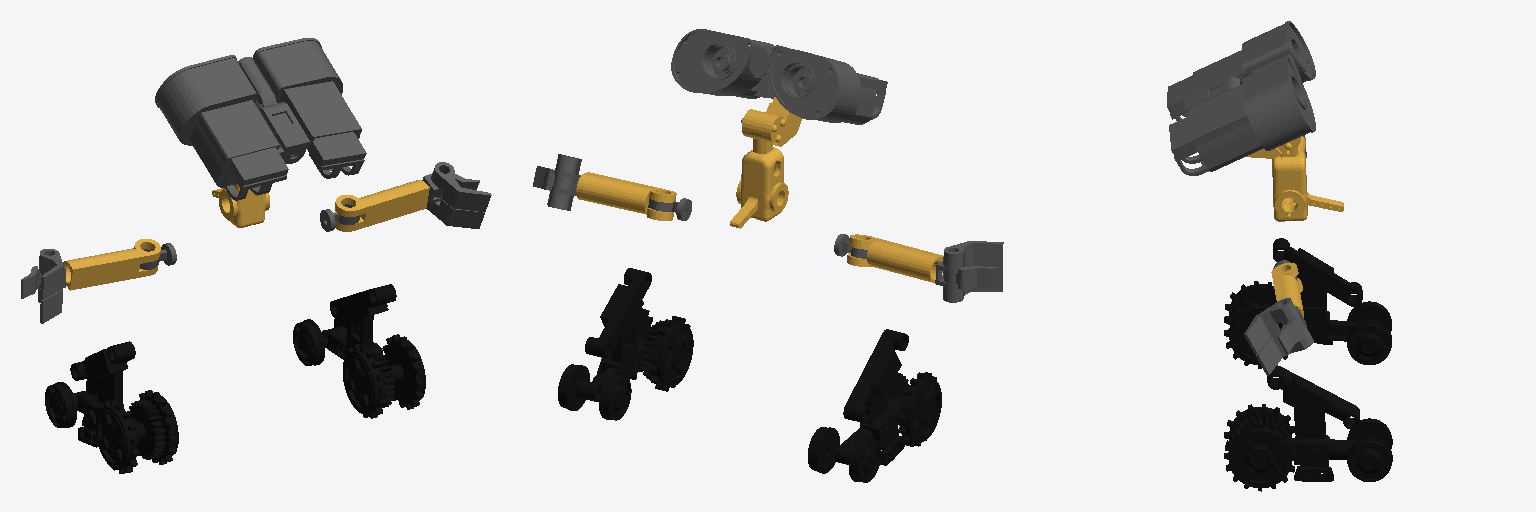
The robot description file, URDF, robot "wall-e_full":
<?xml version="1.0" encoding="utf-8"?>
<!-- This URDF was automatically created by SolidWorks to URDF Exporter! Originally created by Stephen Brawner (brawner@gmail.com) 
     Commit Version: 1.6.0-4-g7f85cfe  Build Version: 1.6.7995.38578
     For more information, please see http://wiki.ros.org/sw_urdf_exporter -->
<robot
  name="wall-e_full">
  <link
    name="base_link">
    <inertial>
      <origin
        xyz="0.00072425 0.015854 -0.025799"
        rpy="0 0 0" />
      <mass
        value="11" />
      <inertia
        ixx="0.0025114"
        ixy="-2.7531E-05"
        ixz="-3.5025E-06"
        iyy="0.0022134"
        iyz="1.9812E-05"
        izz="0.0026656" />
    </inertial>
    <visual>
      <origin
        xyz="0 0 0"
        rpy="0 0 0" />
      <geometry>
        <mesh
          filename="package://wall-e_full/meshes/visual/base_link.STL" />
      </geometry>
      <material
        name="">
        <color
          rgba="0.9 0.7 0.3 1" />
      </material>
    </visual>
    <collision>
      <origin
        xyz="0 0 0"
        rpy="0 0 0" />
      <geometry>
        <mesh
          filename="package://wall-e_full/meshes/visual/base_link.STL" />
      </geometry>
    </collision>
  </link>
  <link
    name="Rhand">
    <inertial>
      <origin
        xyz="0.0151270901152484 -0.000420105609750587 6.9451655321906E-05"
        rpy="0 0 0" />
      <mass
        value="0.00374792012611797" />
      <inertia
        ixx="1.62998097553662E-07"
        ixy="1.71980299655676E-08"
        ixz="-8.16181822947375E-09"
        iyy="6.33070001501512E-07"
        iyz="2.54528565847437E-08"
        izz="6.15720368192165E-07" />
    </inertial>
    <visual>
      <origin
        xyz="0 0 0"
        rpy="0 0 0" />
      <geometry>
        <mesh
          filename="package://wall-e_full/meshes/visual/Rhand.STL" />
      </geometry>
      <material
        name="">
        <color
          rgba="0.4 0.4 0.4 1" />
      </material>
    </visual>
    <collision>
      <origin
        xyz="0 0 0"
        rpy="0 0 0" />
      <geometry>
        <mesh
          filename="package://wall-e_full/meshes/visual/Rhand.STL" />
      </geometry>
    </collision>
  </link>
  <joint
    name="RhandJ"
    type="revolute">
    <origin
      xyz="0.0792794132002008 -0.0110583585170958 0.0300940663722977"
      rpy="1.07568442013707 0 0" />
    <parent
      link="base_link" />
    <child
      link="Rhand" />
    <axis
      xyz="-1 0 0" />
    <limit
      lower="2"
      upper="4"
      effort="2"
      velocity="0.1" />
  </joint>
  <link
    name="Rsholder">
    <inertial>
      <origin
        xyz="-0.0119213406294485 -0.00339818177914497 -0.0332815830043091"
        rpy="0 0 0" />
      <mass
        value="0.0182925989445923" />
      <inertia
        ixx="1.36162677294772E-05"
        ixy="-5.88975805427171E-09"
        ixz="-4.64502040268299E-08"
        iyy="1.37666666939862E-05"
        iyz="-1.69732886248601E-06"
        izz="2.4037183867589E-06" />
    </inertial>
    <visual>
      <origin
        xyz="0 0 0"
        rpy="0 0 0" />
      <geometry>
        <mesh
          filename="package://wall-e_full/meshes/visual/Rsholder.STL" />
      </geometry>
      <material
        name="">
        <color
          rgba="0.9 0.7 0.3 1" />
      </material>
    </visual>
    <collision>
      <origin
        xyz="0 0 0"
        rpy="0 0 0" />
      <geometry>
        <mesh
          filename="package://wall-e_full/meshes/visual/Rsholder.STL" />
      </geometry>
    </collision>
  </link>
  <joint
    name="RsholderJ"
    type="revolute">
    <origin
      xyz="0.0242485001750451 0.00794794958465717 0.00951216591590409"
      rpy="-1.46283096157975 -0.617035597603469 1.5707963267949" />
    <parent
      link="Rhand" />
    <child
      link="Rsholder" />
    <axis
      xyz="-1 0 0" />
    <limit
      lower="0"
      upper="1.6"
      effort="2"
      velocity="0.1" />
  </joint>
  <link
    name="Rarm">
    <inertial>
      <origin
        xyz="-0.0235025387191945 0.011672979455511 -0.00645685040903693"
        rpy="0 0 0" />
      <mass
        value="0.0233697686668032" />
      <inertia
        ixx="5.0787196881731E-06"
        ixy="-1.21873227251801E-09"
        ixz="-1.59436262819754E-09"
        iyy="2.96127465425561E-06"
        iyz="1.62653045119097E-06"
        izz="3.79013374123363E-06" />
    </inertial>
    <visual>
      <origin
        xyz="0 0 0"
        rpy="0 0 0" />
      <geometry>
        <mesh
          filename="package://wall-e_full/meshes/visual/Rarm.STL" />
      </geometry>
      <material
        name="">
        <color
          rgba="0.4 0.4 0.4 1" />
      </material>
    </visual>
    <collision>
      <origin
        xyz="0 0 0"
        rpy="0 0 0" />
      <geometry>
        <mesh
          filename="package://wall-e_full/meshes/visual/Rarm.STL" />
      </geometry>
    </collision>
  </link>
  <joint
    name="RarmJ"
    type="revolute">
    <origin
      xyz="0.011200906069873 -0.0210204493304824 -0.0957705918918181"
      rpy="-0.0342560450293712 -0.0365574134451476 -0.197785306608807" />
    <parent
      link="Rsholder" />
    <child
      link="Rarm" />
    <axis
      xyz="-1 0 0" />
    <limit
      lower="0"
      upper="3.14"
      effort="2"
      velocity="0.1" />
  </joint>
  <link
    name="Lhand">
    <inertial>
      <origin
        xyz="0.0101270901152479 0.000274721555842294 -0.000325331096771464"
        rpy="0 0 0" />
      <mass
        value="0.00374792012611804" />
      <inertia
        ixx="1.62998097553666E-07"
        ixy="-7.79687362180127E-09"
        ixz="1.73665273797952E-08"
        iyy="6.50902239771298E-07"
        iyz="-4.52508470059075E-09"
        izz="5.97888129922383E-07" />
    </inertial>
    <visual>
      <origin
        xyz="0 0 0"
        rpy="0 0 0" />
      <geometry>
        <mesh
          filename="package://wall-e_full/meshes/visual/Lhand.STL" />
      </geometry>
      <material
        name="">
        <color
          rgba="0.4 0.4 0.4 1" />
      </material>
    </visual>
    <collision>
      <origin
        xyz="0 0 0"
        rpy="0 0 0" />
      <geometry>
        <mesh
          filename="package://wall-e_full/meshes/visual/Lhand.STL" />
      </geometry>
    </collision>
  </link>
  <joint
    name="LhandJ"
    type="revolute">
    <origin
      xyz="-0.0842205944292024 -0.00919497285261173 0.0341115128459939"
      rpy="2.06590823345272 0 -3.14159265358979" />
    <parent
      link="base_link" />
    <child
      link="Lhand" />
    <axis
      xyz="-1 0 0" />
    <limit
      lower="2.8"
      upper="4.8"
      effort="2"
      velocity="0.1" />
  </joint>
  <link
    name="Lsholder">
    <inertial>
      <origin
        xyz="-0.0120786593787262 0.0195047397040249 0.0271804439880072"
        rpy="0 0 0" />
      <mass
        value="0.0182925989740192" />
      <inertia
        ixx="1.36162677327382E-05"
        ixy="-2.63630904946591E-08"
        ixz="-3.86949378034712E-08"
        iyy="1.04635530723469E-05"
        iyz="-5.43171013534269E-06"
        izz="5.70683201171263E-06" />
    </inertial>
    <visual>
      <origin
        xyz="0 0 0"
        rpy="0 0 0" />
      <geometry>
        <mesh
          filename="package://wall-e_full/meshes/visual/Lsholder.STL" />
      </geometry>
      <material
        name="">
        <color
          rgba="0.9 0.7 0.3 1" />
      </material>
    </visual>
    <collision>
      <origin
        xyz="0 0 0"
        rpy="0 0 0" />
      <geometry>
        <mesh
          filename="package://wall-e_full/meshes/visual/Lsholder.STL" />
      </geometry>
    </collision>
  </link>
  <joint
    name="LsholderJ"
    type="revolute">
    <origin
      xyz="0.0192485001750451 0.0116867934107034 -0.00421067864858182"
      rpy="2.18702424890012 0.0886676099420433 1.5707963267949" />
    <parent
      link="Lhand" />
    <child
      link="Lsholder" />
    <axis
      xyz="1 0 0" />
    <limit
      lower="0"
      upper="1.6"
      effort="2"
      velocity="0.1" />
  </joint>
  <link
    name="Larm">
    <inertial>
      <origin
        xyz="-0.0164974612808055 -0.00893436977348827 -0.00990587721123648"
        rpy="0 0 0" />
      <mass
        value="0.0233697686668031" />
      <inertia
        ixx="5.07871968817308E-06"
        ixy="-1.67146424151962E-09"
        ixz="1.11063397732798E-09"
        iyy="4.05067786846129E-06"
        iyz="-1.53680307749797E-06"
        izz="2.7007305270279E-06" />
    </inertial>
    <visual>
      <origin
        xyz="0 0 0"
        rpy="0 0 0" />
      <geometry>
        <mesh
          filename="package://wall-e_full/meshes/visual/Larm.STL" />
      </geometry>
      <material
        name="">
        <color
          rgba="0.4 0.4 0.4 1" />
      </material>
    </visual>
    <collision>
      <origin
        xyz="0 0 0"
        rpy="0 0 0" />
      <geometry>
        <mesh
          filename="package://wall-e_full/meshes/visual/Larm.STL" />
      </geometry>
    </collision>
  </link>
  <joint
    name="LarmJ"
    type="revolute">
    <origin
      xyz="0.00399305568475605 0.0545580157763127 0.0815532442295912"
      rpy="2.13255459988495 0.102904174992439 0.173074399599481" />
    <parent
      link="Lsholder" />
    <child
      link="Larm" />
    <axis
      xyz="1 0 0" />
    <limit
      lower="0"
      upper="3.14"
      effort="2"
      velocity="0.1" />
  </joint>
  <link
    name="Neck">
    <inertial>
      <origin
        xyz="-0.0189867601505496 0.018279574840958 -0.00910763273032833"
        rpy="0 0 0" />
      <mass
        value="0.055631749180625" />
      <inertia
        ixx="5.0781139917329E-05"
        ixy="-2.22464848411052E-08"
        ixz="6.17274470213113E-08"
        iyy="1.85087162905287E-05"
        iyz="1.71827293097959E-05"
        izz="3.47123466619971E-05" />
    </inertial>
    <visual>
      <origin
        xyz="0 0 0"
        rpy="0 0 0" />
      <geometry>
        <mesh
          filename="package://wall-e_full/meshes/visual/Neck.STL" />
      </geometry>
      <material
        name="">
        <color
          rgba="0.9 0.7 0.3 1" />
      </material>
    </visual>
    <collision>
      <origin
        xyz="0 0 0"
        rpy="0 0 0" />
      <geometry>
        <mesh
          filename="package://wall-e_full/meshes/visual/Neck.STL" />
      </geometry>
    </collision>
  </link>
  <joint
    name="NeckJ"
    type="revolute">
    <origin
      xyz="-0.020580225088796 -0.00600016267599335 0.0672678402916838"
      rpy="2.06590823345272 0 3.14159265358979" />
    <parent
      link="base_link" />
    <child
      link="Neck" />
    <axis
      xyz="-1 0 0" />
    <limit
      lower="0"
      upper="0.7"
      effort="2"
      velocity="0.1" />
  </joint>
  <link
    name="Head">
    <inertial>
      <origin
        xyz="-0.014974584611236 -0.0167143968161734 -0.0184525950146903"
        rpy="0 0 0" />
      <mass
        value="0.023620134715717" />
      <inertia
        ixx="7.93894777890778E-06"
        ixy="-7.45668922195381E-10"
        ixz="-1.52645857494008E-09"
        iyy="6.22914827277481E-06"
        iyz="-1.67231029043584E-06"
        izz="3.51747349673933E-06" />
    </inertial>
    <visual>
      <origin
        xyz="0 0 0"
        rpy="0 0 0" />
      <geometry>
        <mesh
          filename="package://wall-e_full/meshes/visual/Head.STL" />
      </geometry>
      <material
        name="">
        <color
          rgba="0.9 0.7 0.3 1" />
      </material>
    </visual>
    <collision>
      <origin
        xyz="0 0 0"
        rpy="0 0 0" />
      <geometry>
        <mesh
          filename="package://wall-e_full/meshes/visual/Head.STL" />
      </geometry>
    </collision>
  </link>
  <joint
    name="HeadJ"
    type="revolute">
    <origin
      xyz="-0.00399999999999995 0.0570795849650889 -0.0326190155305308"
      rpy="0 0 0" />
    <parent
      link="Neck" />
    <child
      link="Head" />
    <axis
      xyz="1 0 0" />
    <limit
      lower="0"
      upper="0.7"
      effort="2"
      velocity="0.1" />
  </joint>
  <link
    name="Reye">
    <inertial>
      <origin
        xyz="-0.0371345813009102 -0.0107751149338446 -0.0458158675801019"
        rpy="0 0 0" />
      <mass
        value="0.175384601008838" />
      <inertia
        ixx="0.000103156773664722"
        ixy="1.77010298008782E-06"
        ixz="6.18458127840295E-06"
        iyy="0.00011043773116029"
        iyz="-1.75461714676587E-05"
        izz="9.44523120126188E-05" />
    </inertial>
    <visual>
      <origin
        xyz="0 0 0"
        rpy="0 0 0" />
      <geometry>
        <mesh
          filename="package://wall-e_full/meshes/visual/Reye.STL" />
      </geometry>
      <material
        name="">
        <color
          rgba="0.4 0.4 0.4 1" />
      </material>
    </visual>
    <collision>
      <origin
        xyz="0 0 0"
        rpy="0 0 0" />
      <geometry>
        <mesh
          filename="package://wall-e_full/meshes/visual/Reye.STL" />
      </geometry>
    </collision>
  </link>
  <joint
    name="ReyeJ"
    type="revolute">
    <origin
      xyz="-0.0155009534058528 -0.0141028247914159 -0.0726071469591669"
      rpy="-1.46140918575523 0.607772283772164 -1.5707963267949" />
    <parent
      link="Head" />
    <child
      link="Reye" />
    <axis
      xyz="1 0 0" />
    <limit
      lower="-0.4"
      upper="0.16"
      effort="2"
      velocity="0.2" />
  </joint>
  <link name="Leye">
    <inertial>
      <origin
        xyz="-0.0380394623700002 0.00105502152661718 0.0470590970244523"
        rpy="0 0 0" />
      <mass
        value="0.182702879543405" />
      <inertia
        ixx="0.000107190589711804"
        ixy="1.3535165373665E-07"
        ixz="-5.88086899151041E-06"
        iyy="0.000122132969308728"
        iyz="1.26662314003714E-05"
        izz="9.02687127491703E-05" />
    </inertial>
    <visual>
      <origin
        xyz="0 0 0"
        rpy="0 0 0" />
      <geometry>
        <mesh
          filename="package://wall-e_full/meshes/visual/Leye.STL" />
      </geometry>
      <material
        name="">
        <color
          rgba="0.4 0.4 0.4 1" />
      </material>
    </visual>
    <collision>
      <origin
        xyz="0 0 0"
        rpy="0 0 0" />
      <geometry>
        <mesh
          filename="package://wall-e_full/meshes/visual/Leye.STL" />
      </geometry>
    </collision>
  </link>
  <joint
    name="LeyeJ"
    type="revolute">
    <origin
      xyz="-0.0155009534058528 -0.0141028247914159 -0.0726071469591669"
      rpy="-1.46140918575523 0.607772283772164 -1.5707963267949" />
    <parent
      link="Head" />
    <child
      link="Leye" />
    <axis
      xyz="1 0 0" />
    <limit
      lower="-0.16"
      upper="0.4"
      effort="2"
      velocity="0.2" />
  </joint>
  <link
    name="EyesH">
    <inertial>
      <origin
        xyz="-0.0244443833580991 0.0046191018704318 -0.000507202252887029"
        rpy="0 0 0" />
      <mass
        value="0.0324345179498461" />
      <inertia
        ixx="3.40512588039258E-06"
        ixy="3.99690485066516E-07"
        ixz="-4.39353936331578E-08"
        iyy="2.20801594799036E-05"
        iyz="1.07482863983871E-07"
        izz="2.30464564355676E-05" />
    </inertial>
    <visual>
      <origin
        xyz="0 0 0"
        rpy="0 0 0" />
      <geometry>
        <mesh
          filename="package://wall-e_full/meshes/visual/EyesH.STL" />
      </geometry>
      <material
        name="">
        <color
          rgba="0.4 0.4 0.4 1" />
      </material>
    </visual>
    <collision>
      <origin
        xyz="0 0 0"
        rpy="0 0 0" />
      <geometry>
        <mesh
          filename="package://wall-e_full/meshes/visual/EyesH.STL" />
      </geometry>
    </collision>
  </link>
  <joint
    name="EyesHJ"
    type="fixed">
    <origin
      xyz="-0.0155009534058528 -0.0141028247914159 -0.0726071469591669"
      rpy="-1.46140918575523 0.607772283772164 -1.5707963267949" />
    <parent
      link="Head" />
    <child
      link="EyesH" />
    <axis
      xyz="0 0 0" />
  </joint>
  <link
    name="Lwheels">
    <inertial>
      <origin
        xyz="-0.0095379655853709 -0.00232752420520177 0.0348624448677597"
        rpy="0 0 0" />
      <mass
        value="0.0662251477317888" />
      <inertia
        ixx="7.76914479792229E-05"
        ixy="7.46023187208122E-08"
        ixz="3.36049621190825E-07"
        iyy="4.83865473329313E-05"
        iyz="-6.11063724459809E-06"
        izz="3.29557629375834E-05" />
    </inertial>
    <visual>
      <origin
        xyz="0 0 0"
        rpy="0 0 0" />
      <geometry>
        <mesh
          filename="package://wall-e_full/meshes/visual/Lwheels.STL" />
      </geometry>
      <material
        name="">
        <color
          rgba="0.1 0.1 0.1 1" />
      </material>
    </visual>
    <collision>
      <origin
        xyz="0 0 0"
        rpy="0 0 0" />
      <geometry>
        <mesh
          filename="package://wall-e_full/meshes/visual/Lwheels.STL" />
      </geometry>
    </collision>
  </link>



  <joint
    name="LwheelsFJ"
    type="revolute">
    <origin
      xyz="-0.123415851913447 0.0419467242228186 -0.125130008747716"
      rpy="0.76 0 0" />
    <parent
      link="base_link" />
    <child
      link="Lwheels" />
    <axis
      xyz="0 0 0" />
  
    <limit
      lower="0"
      upper="0"
      effort="0.5"
      velocity="0.2" />
    </joint>



  <link
    name="LBwheel">
    <inertial>
      <origin
        xyz="-0.0270724153439386 1.44468253258645E-05 -1.22723972382222E-05"
        rpy="0 0 0" />
      <mass
        value="0.0716771284668782" />
      <inertia
        ixx="3.11575089220482E-05"
        ixy="-1.8518030864969E-10"
        ixz="1.03388879015868E-10"
        iyy="1.61942221191341E-05"
        iyz="1.38748453698783E-10"
        izz="1.6194287036228E-05" />
    </inertial>
    <visual>
      <origin
        xyz="0 0 0"
        rpy="0 0 0" />
      <geometry>
        <mesh
          filename="package://wall-e_full/meshes/visual/LBwheel.STL" />
      </geometry>
      <material
        name="">
        <color
          rgba="0.1 0.1 0.1 1" />
      </material>
    </visual>
    <collision>
      <origin
        xyz="0 0 0"
        rpy="0 0 0" />
      <geometry>
        <mesh
          filename="package://wall-e_full/meshes/visual/LBwheel.STL" />
      </geometry>
    </collision>
  </link>


  <joint
    name="LBwheelJ"
    type="revolute">
    <origin
      xyz="-0.0291791963941167 -0.0515956365383954 0.0537479680047583"
      rpy="3.14159265358979 0 -3.14159265358979" />
    <parent
      link="Lwheels" />
    <child
      link="LBwheel" />
    <axis
      xyz="-1 0 0" />
    <limit
      
      effort="0.5"
      velocity="0.2" />
    <dynamics
      friction="1.5" />
  </joint>
  <link
    name="LFwheel">
    <inertial>
      <origin
        xyz="-0.0265000000000001 2.80438536642835E-06 -3.77644965166013E-06"
        rpy="0 0 0" />
      <mass
        value="0.0226616351783077" />
      <inertia
        ixx="4.86026109240282E-06"
        ixy="-1.54141535026637E-09"
        ixz="-1.14477658497428E-09"
        iyy="2.61061777892394E-06"
        iyz="-1.45342446040507E-09"
        izz="2.61149565277333E-06" />
    </inertial>
    <visual>
      <origin
        xyz="0 0 0"
        rpy="0 0 0" />
      <geometry>
        <mesh
          filename="package://wall-e_full/meshes/visual/LFwheel.STL" />
      </geometry>
      <material
        name="">
        <color
          rgba="0.1 0.1 0.1 1" />
      </material>
    </visual>
    <collision>
      <origin
        xyz="0 0 0"
        rpy="0 0 0" />
      <geometry>
        <mesh
          filename="package://wall-e_full/meshes/visual/LFwheel.STL" />
      </geometry>
    </collision>
  </link>
  <joint
    name="LFwheelJ"
    type="revolute">
    <origin
      xyz="-0.0313 0.014447 -0.021341"
      rpy="3.1416 0 -3.1416" />
    <parent
      link="Lwheels" />
    <child
      link="LFwheel" />
    <axis
      xyz="-1 0 0" />
    <limit
      
      effort="0.5"
      velocity="0.2" />
    <dynamics
      friction="1.5" />
  </joint>
  <link
    name="Rwheels">
    <inertial>
      <origin
        xyz="0 0 0"
        rpy="0 0 0" />
      <mass
        value="0" />
      <inertia
        ixx="0"
        ixy="0"
        ixz="0"
        iyy="0"
        iyz="0"
        izz="0" />
    </inertial>
    <visual>
      <origin
        xyz="0 0 0"
        rpy="0 0 0" />
      <geometry>
        <mesh
          filename="package://wall-e_full/meshes/visual/Rwheels.STL" />
      </geometry>
      <material
        name="">
        <color
          rgba="0.1 0.1 0.1 1" />
      </material>
    </visual>
    <collision>
      <origin
        xyz="0 0 0"
        rpy="0 0 0" />
      <geometry>
        <mesh
          filename="package://wall-e_full/meshes/visual/Rwheels.STL" />
      </geometry>
    </collision>
  </link>

  <joint
    name="RwheelsFJ"
    type="revolute">
    <origin
      xyz="0.12411 0.041947 -0.12513"
      rpy="2.25 0 3.1416" />
    <parent
      link="base_link" />
    <child
      link="Rwheels" />
    <axis
      xyz="0 0 0" />
    <limit
      lower="0"
      upper="0"
      effort="0.5"
      velocity="0.2" />
  </joint>

  <link
    name="RBwheel">
    <inertial>
      <origin
        xyz="-0.0288396792815708 1.54609783653004E-05 1.10133691930692E-05"
        rpy="0 0 0" />
      <mass
        value="0.0716771284356072" />
      <inertia
        ixx="3.11575089251671E-05"
        ixy="-1.43113551401842E-10"
        ixz="-1.47147966192945E-10"
        iyy="1.61942570015214E-05"
        iyz="-3.6056702433841E-11"
        izz="1.61942521563072E-05" />
    </inertial>
    <visual>
      <origin
        xyz="0 0 0"
        rpy="0 0 0" />
      <geometry>
        <mesh
          filename="package://wall-e_full/meshes/visual/RBwheel.STL" />
      </geometry>
      <material
        name="">
        <color
          rgba="0.1 0.1 0.1 1" />
      </material>
    </visual>
    <collision>
      <origin
        xyz="0 0 0"
        rpy="0 0 0" />
      <geometry>
        <mesh
          filename="package://wall-e_full/meshes/visual/RBwheel.STL" />
      </geometry>
    </collision>
  </link>
  <joint
    name="RBwheelJ"
    type="revolute">
    <origin
      xyz="-0.030289 -0.047886 -0.057078"
      rpy="3.1416 0 3.1416" />
    <parent
      link="Rwheels" />
    <child
      link="RBwheel" />
    <axis
      xyz="-1 0 0" />
    <limit
      
      effort="0.5"
      velocity="0.2" />
    <dynamics
      friction="1.5" />
  </joint>
  <link
    name="RFwheel">
    <inertial>
      <origin
        xyz="-0.0264999926057694 5.31159047872931E-06 2.18074092406262E-06"
        rpy="0 0 0" />
      <mass
        value="0.0226616211465918" />
      <inertia
        ixx="4.86025964603646E-06"
        ixy="7.18456142709878E-10"
        ixz="-1.75001102353869E-09"
        iyy="2.61222159394828E-06"
        iyz="1.15103948609314E-09"
        izz="2.60989030032607E-06" />
    </inertial>
    <visual>
      <origin
        xyz="0 0 0"
        rpy="0 0 0" />
      <geometry>
        <mesh
          filename="package://wall-e_full/meshes/visual/RFwheel.STL" />
      </geometry>
      <material
        name="">
        <color
          rgba="0.1 0.1 0.1 1" />
      </material>
    </visual>
    <collision>
      <origin
        xyz="0 0 0"
        rpy="0 0 0" />
      <geometry>
        <mesh
          filename="package://wall-e_full/meshes/visual/RFwheel.STL" />
      </geometry>
    </collision>
  </link>
  <joint
    name="RFwheelJ"
    type="revolute">
    <origin
      xyz="-0.0313 0.012988 0.022259"
      rpy="3.1416 0 3.1416" />
    <parent
      link="Rwheels" />
    <child
      link="RFwheel" />
    <axis
      xyz="-1 0 0" />
    <limit
      
      effort="0.5"
      velocity="0.2" />
    <dynamics
      friction="1.5" />
  </joint>
</robot>

--- Facts derived from the render (not from the file) ---
Views: 3 orthographic renders of the robot side by side, from view 1: azimuth 30°, elevation 25°; view 2: azimuth 150°, elevation 25°; view 3: azimuth 270°, elevation 25°.
Model wall-e_full with 18 links and 17 joints (16 revolute, 1 fixed), rooted at base_link, posed all joints at 0 but 2 set to mid-range because 0 is outside their limits (RhandJ = 3, LhandJ = 3.8).
Links seen in each view (by area): view 1: Leye, Reye, RBwheel, LBwheel, Lwheels, Rwheels, Rarm, Lsholder, Rsholder, EyesH, Larm, Neck (+2 smaller); view 2: Leye, Reye, Lwheels, Rwheels, Neck, Larm, RBwheel, LBwheel, Rsholder, Lsholder, LFwheel, RFwheel (+3 smaller); view 3: Reye, Rwheels, RBwheel, Leye, Lwheels, Rarm, Neck, RFwheel, LFwheel, LBwheel, Rsholder, EyesH.
Link boxes in pixels (bbox=[...]): Leye: bbox=[155, 55, 296, 200]; Reye: bbox=[253, 38, 366, 178]; RBwheel: bbox=[343, 334, 425, 418]; LBwheel: bbox=[95, 390, 178, 473]; Lwheels: bbox=[70, 341, 145, 447]; Rwheels: bbox=[322, 284, 403, 383]; Rarm: bbox=[422, 162, 491, 228]; Lsholder: bbox=[63, 239, 160, 290]; Rsholder: bbox=[334, 180, 429, 231]; EyesH: bbox=[237, 57, 309, 163]; Larm: bbox=[21, 249, 65, 323]; Neck: bbox=[212, 184, 269, 227]; Leye: bbox=[762, 45, 887, 124]; Reye: bbox=[671, 29, 774, 98]; Lwheels: bbox=[835, 329, 908, 465]; Rwheels: bbox=[575, 268, 651, 401]; Neck: bbox=[730, 109, 788, 228]; Larm: bbox=[935, 241, 1003, 302]; RBwheel: bbox=[629, 308, 693, 391]; LBwheel: bbox=[860, 372, 941, 446]; Rsholder: bbox=[576, 172, 676, 220]; Lsholder: bbox=[847, 234, 943, 282]; LFwheel: bbox=[808, 427, 880, 482]; RFwheel: bbox=[558, 364, 631, 420]; Reye: bbox=[1169, 56, 1315, 175]; Rwheels: bbox=[1267, 365, 1359, 481]; RBwheel: bbox=[1224, 404, 1297, 491]; Leye: bbox=[1167, 21, 1315, 120]; Lwheels: bbox=[1273, 238, 1374, 344]; Rarm: bbox=[1244, 298, 1313, 375]; Neck: bbox=[1272, 136, 1343, 221]; RFwheel: bbox=[1347, 418, 1392, 481]; LFwheel: bbox=[1347, 301, 1391, 364]; LBwheel: bbox=[1224, 281, 1287, 368]; Rsholder: bbox=[1271, 263, 1303, 325]; EyesH: bbox=[1185, 54, 1300, 114].
Size in the robot's own frame: 0.4725 by 0.2066 by 0.3765 metres.
Meshes: 18 distinct files referenced, 17 mesh visuals loaded (17 binary STL); not drawn: 1 (reference not matched to a file when rendering).
